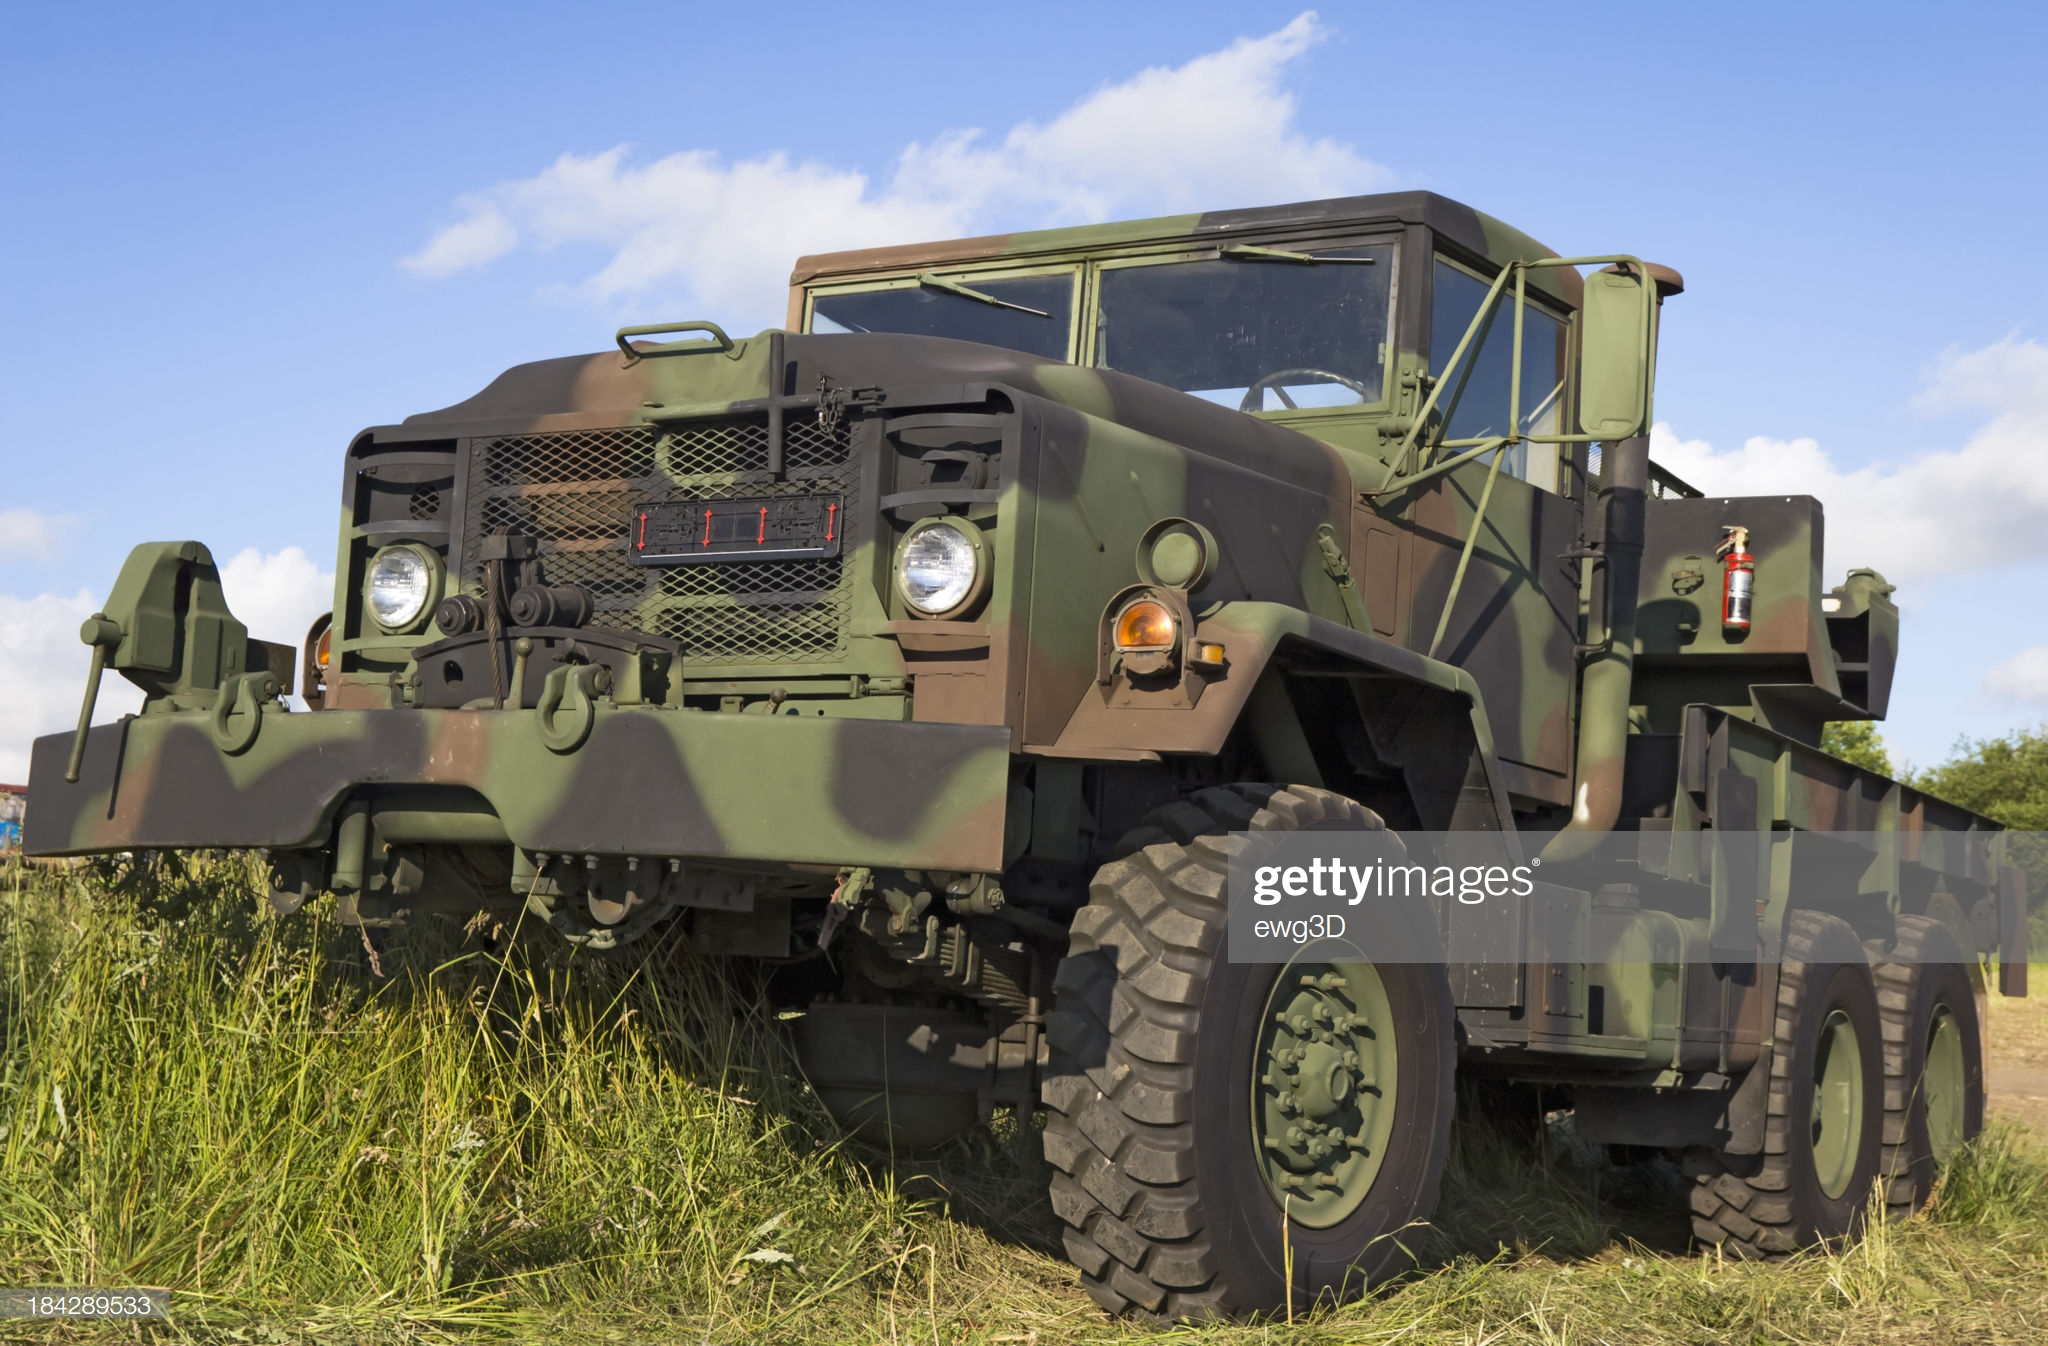camion: (29, 216, 1976, 1254)
